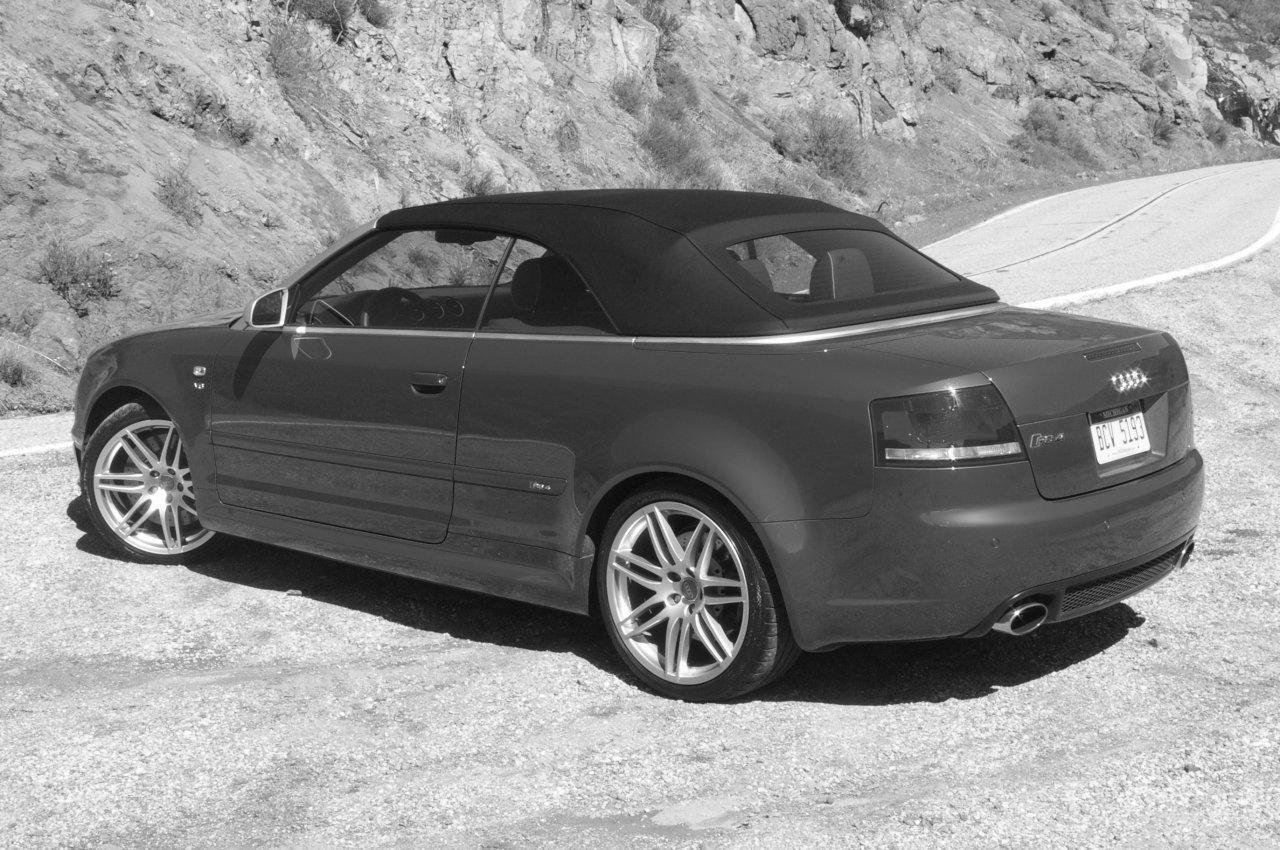car: (73, 192, 1202, 704)
